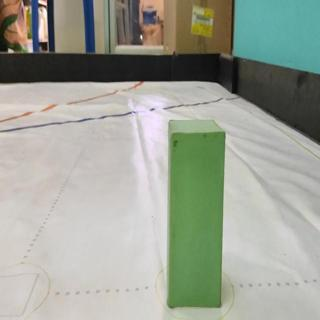greenbox: (167, 117, 226, 308)
